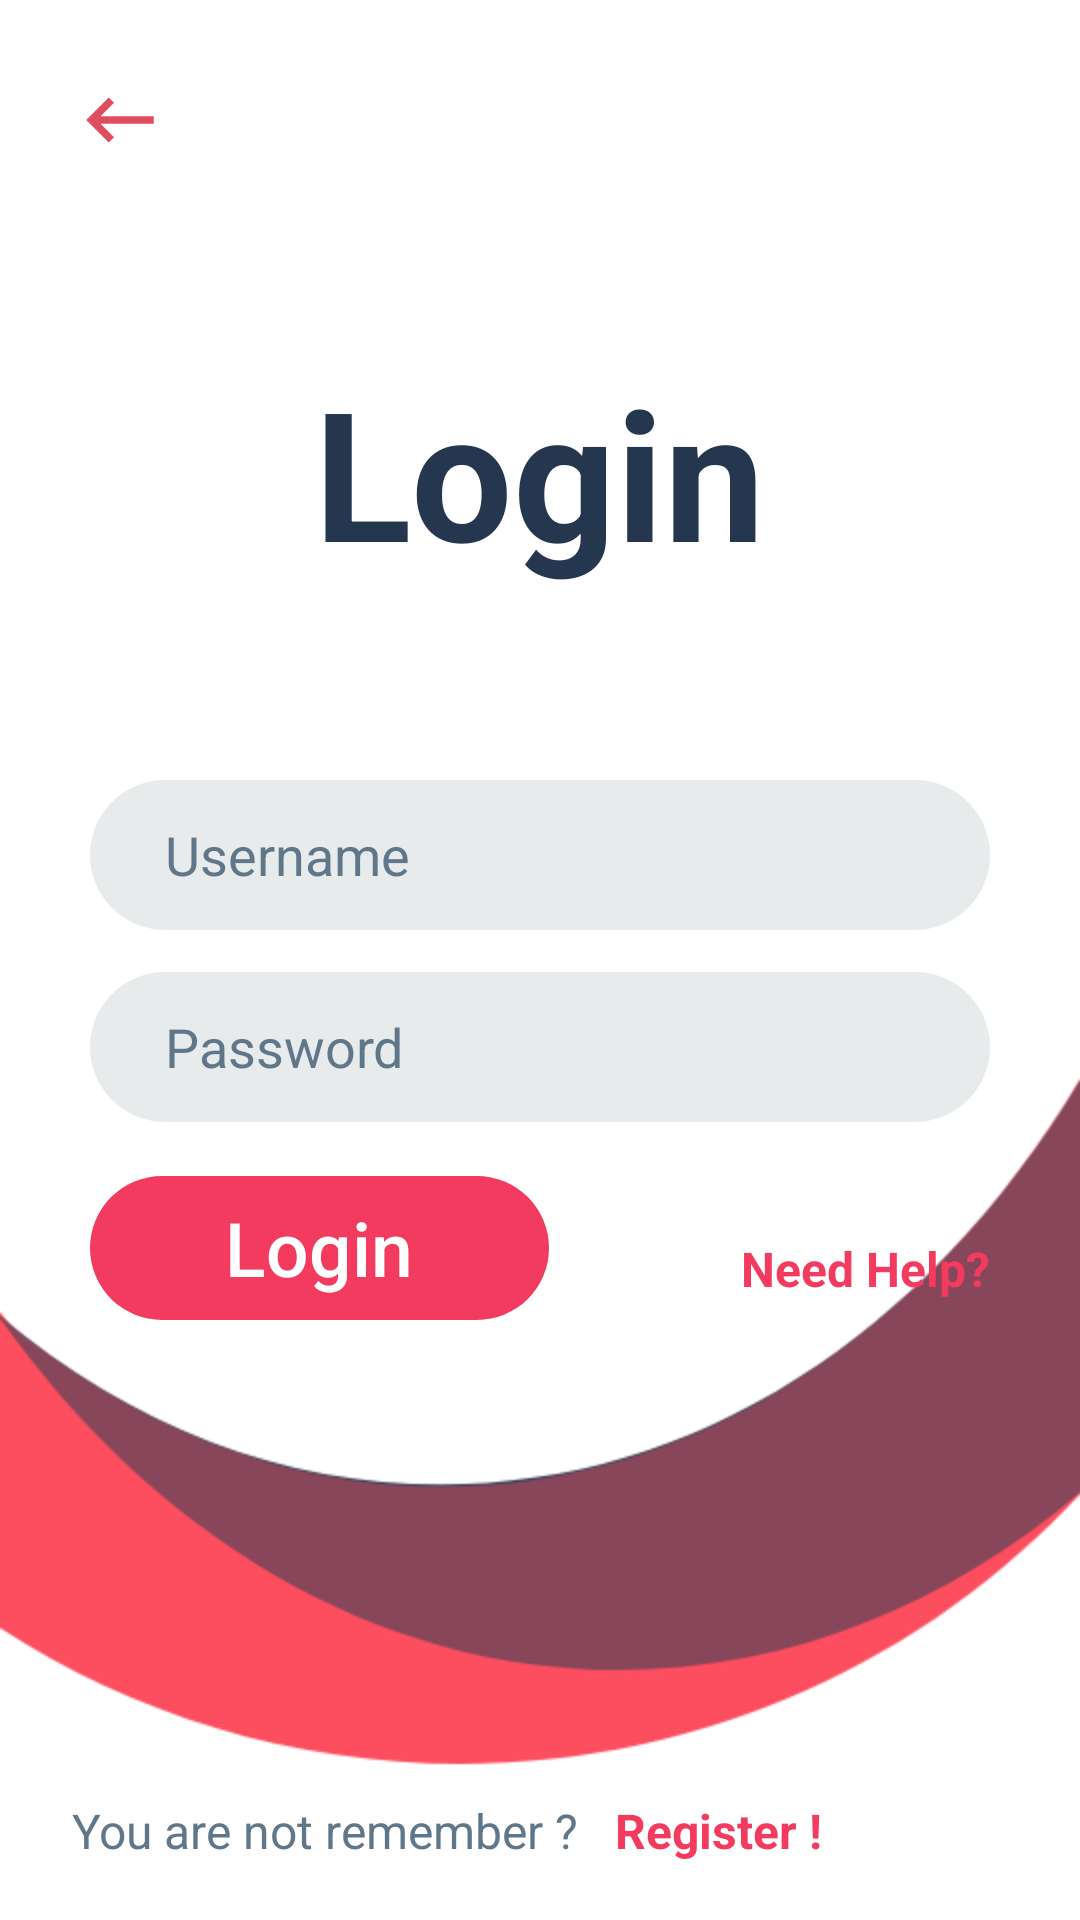

Point at icon controls on the screen. Image size 1080x1920, points as [x,y].
keyboard backspace: [120,120]
